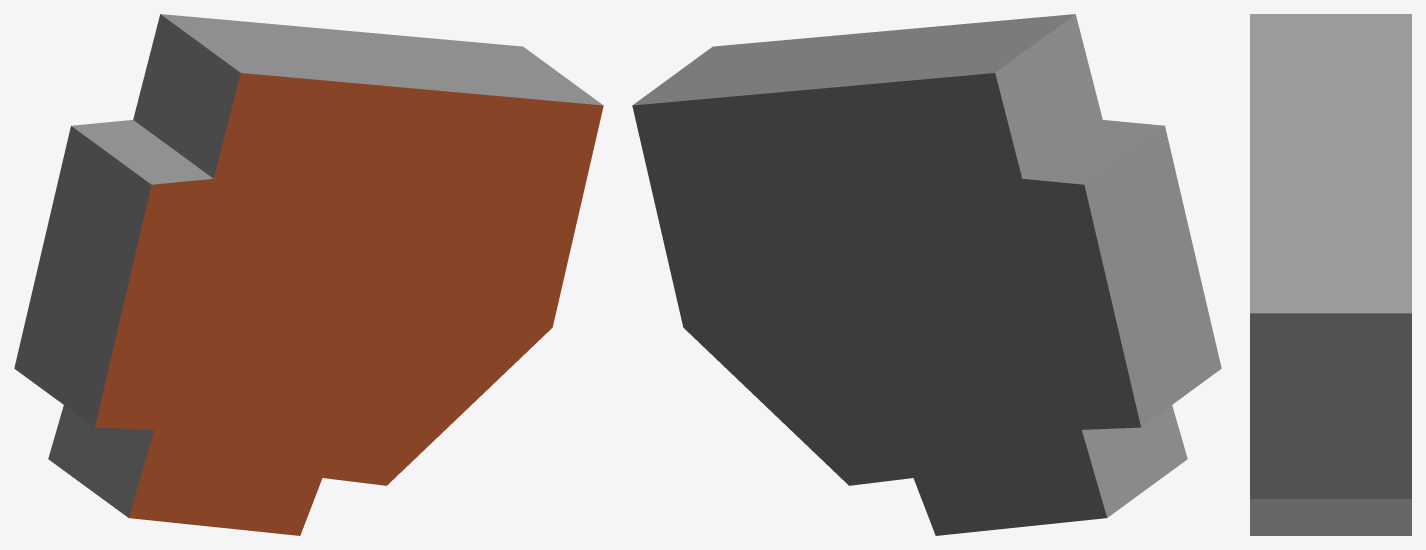
The model's file is construction_0402_assumed_A_Casa_h6m.obj.
3 views of the same model, side by side, from view 1: azimuth 30°, elevation 25°; view 2: azimuth 150°, elevation 25°; view 3: azimuth 270°, elevation 25° (orthographic).
Parts seen in each view (by area): view 1: construction_0402_assumed_A_Casa; view 2: construction_0402_assumed_A_Casa; view 3: construction_0402_assumed_A_Casa.
Part boxes in pixels (x1,y1,x2,y2): construction_0402_assumed_A_Casa: (14, 14, 603, 535); construction_0402_assumed_A_Casa: (632, 14, 1221, 535); construction_0402_assumed_A_Casa: (1250, 14, 1411, 535).
Bounding box in the file's own units: 21.89 × 19.62 × 6.
